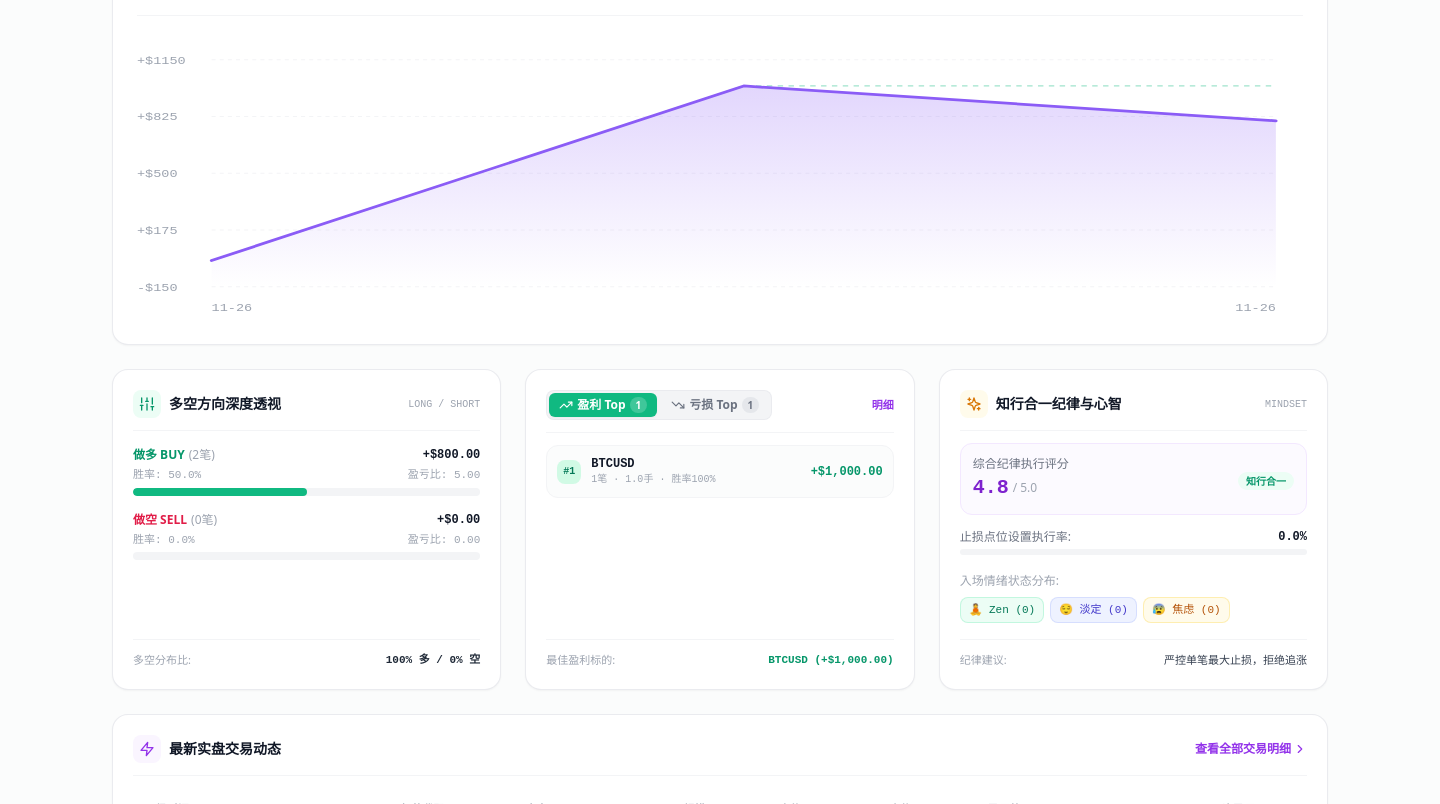
Test case: DashboardPage (TradeZella & TradeSync Style) › allows switching between 盈利 Top and 亏损 Top ranking tabs
The image size is (1440, 804).
(page scrolled)
Expected: the text "最佳盈利标的:" is shown, [546,652,615,668]
Expected: the text "BTCUSD" is shown, [591,457,634,471]
Note: Click 亏损 Top tab
Click the text "亏损 Top" at (713, 405), box [689,397,738,413]
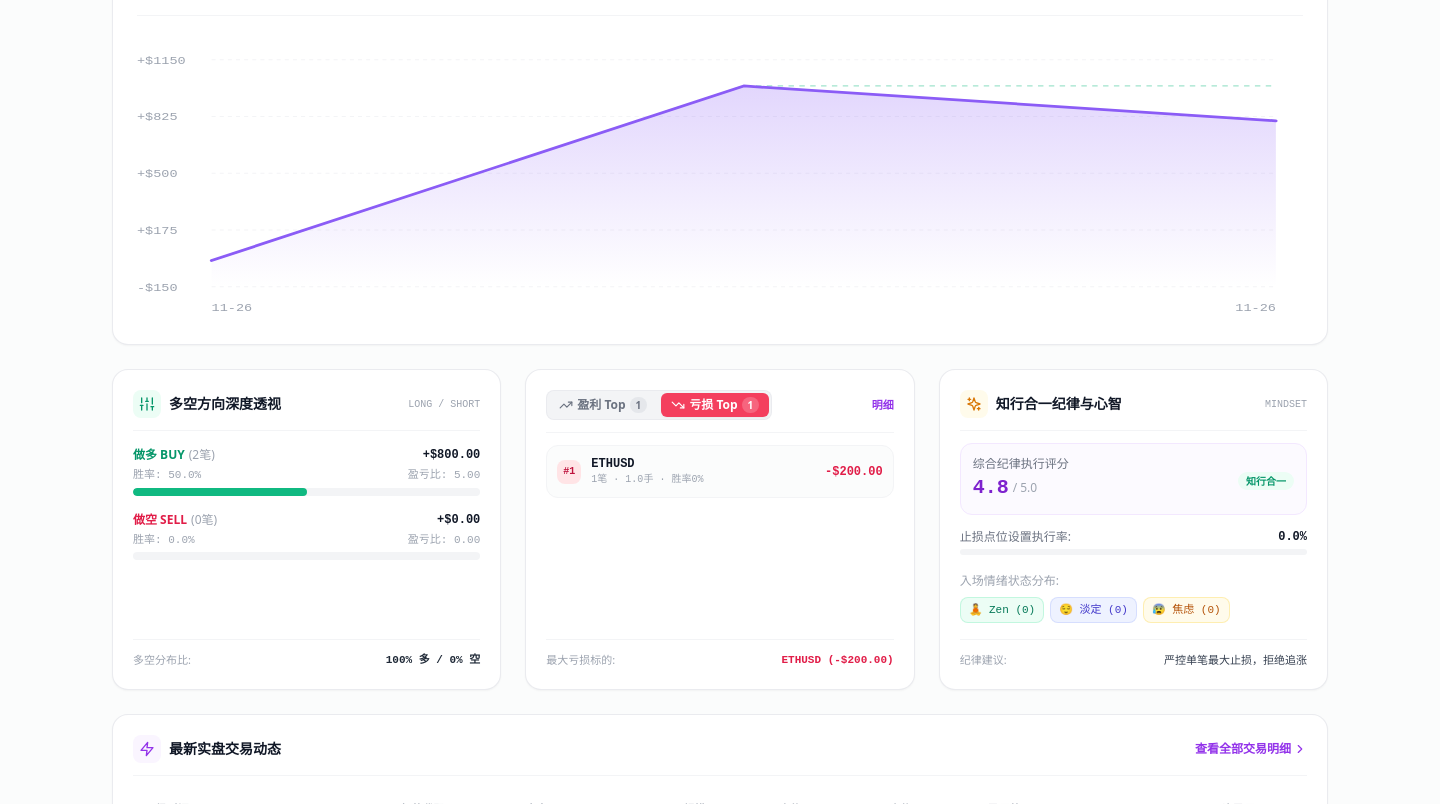
Result: the text "最大亏损标的:" is shown at [546,652,615,668]
Result: the text "ETHUSD" is shown at [591,457,634,471]
